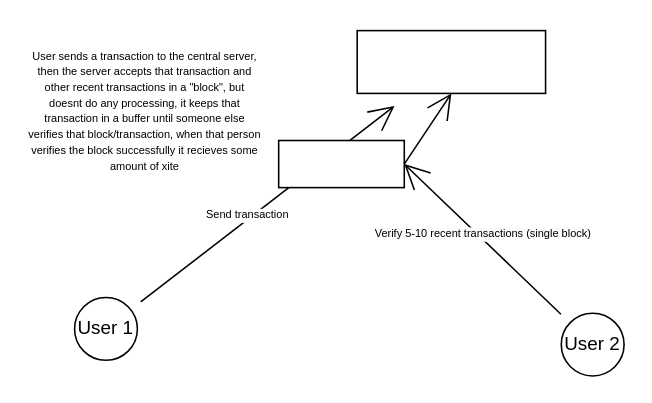
Some shapes in this 652 by 403 pixel diagram are drawn without their labels. Here are the shapes that lost their labels. From the top down, the centre of each, then its label:
At pixel 451 61: "Central server".
At pixel 340 163: "Buffer blockchain for that transaction".
